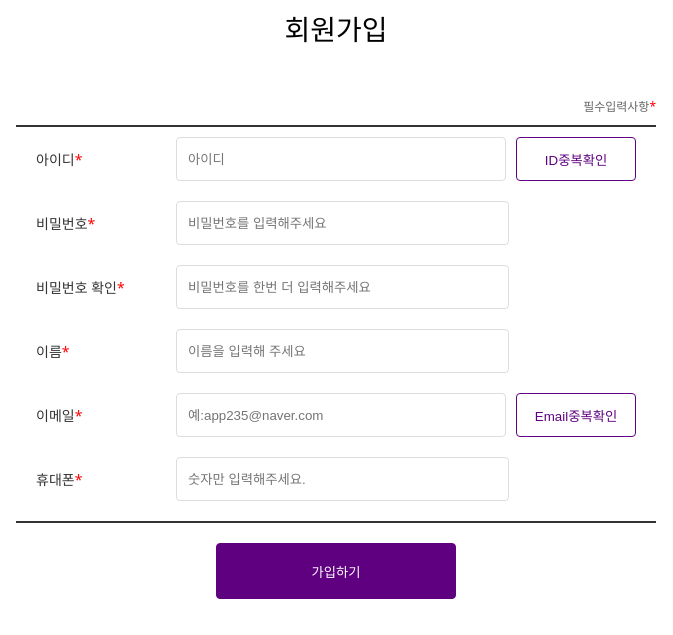
it: 회원가입 페이지 › 핸드폰번호 유효성 검사 에러메세지 노출
Step 1. Type "01012345678" into the field with id "input-phone" → (340, 479), box [188,458,493,500]
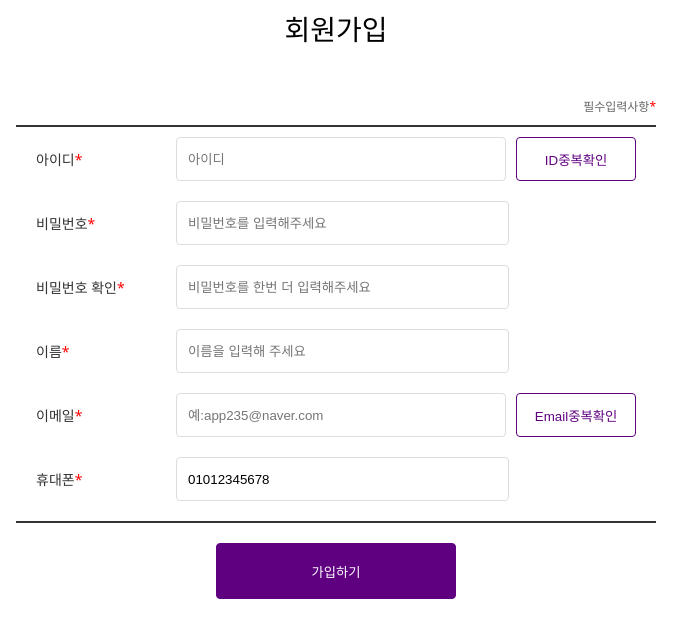
Step 2. Replace the text in the field with id "input-phone" with "010asdf" → (340, 479), box [188,458,493,500]
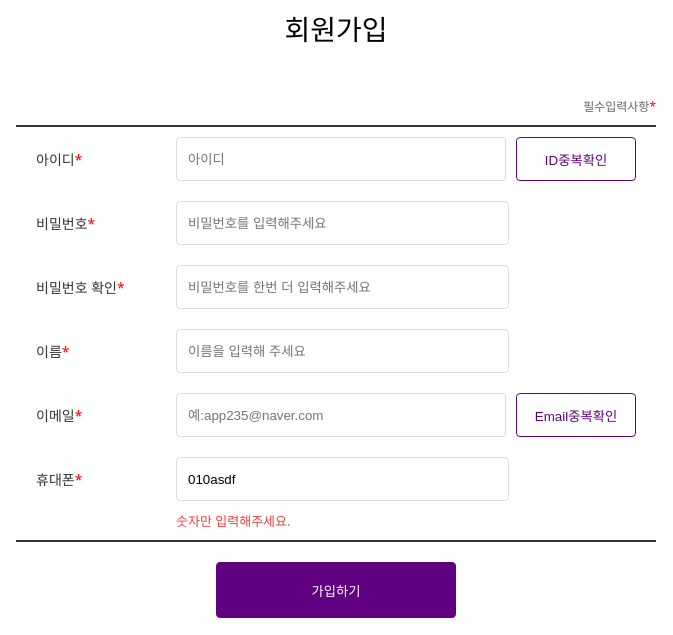
Check: the text named "phone Error Message" is shown, box [176,512,290,530]
